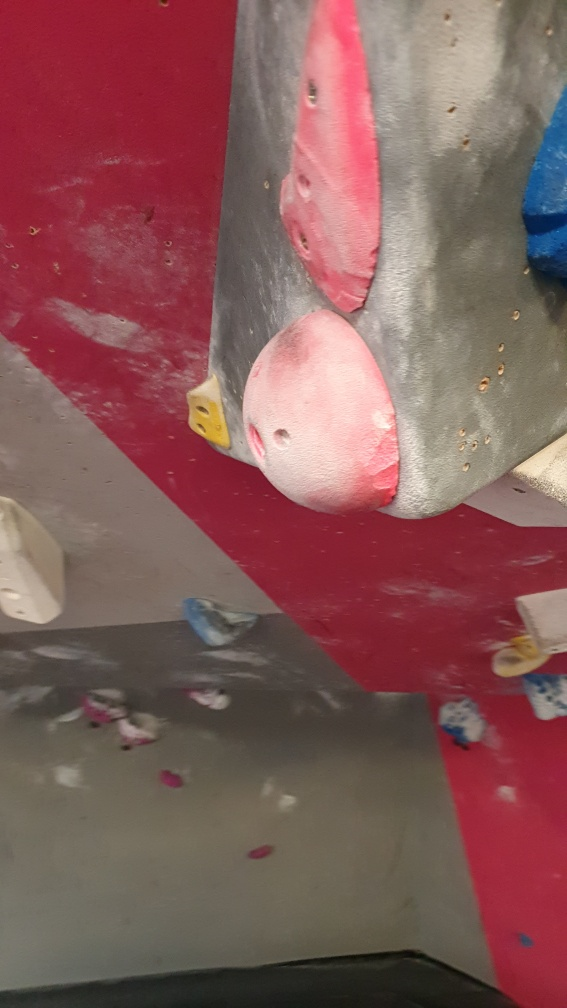Crimp: (180, 375, 235, 456)
Jug: (179, 591, 260, 648)
Pinch: (1, 497, 72, 629)
Sloper: (242, 307, 408, 513)
